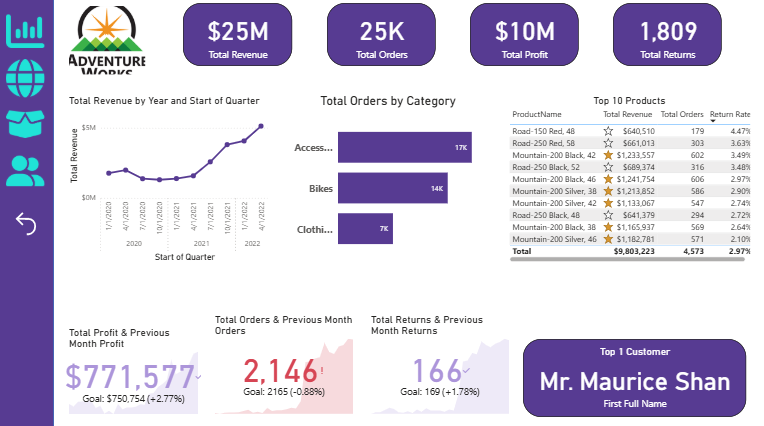

Layout of this report page (visuals, bound fields, positions):
{"tool":"powerbi","page":{"name":"Page 1","canvas":[1280,720],"ordinal":0},"visuals":[{"type":"shape","box":[0,0,93.3,720],"z":0},{"type":"image","box":[9.1,16.2,73.8,73.8],"z":0,"group":"g1"},{"type":"image","box":[113.8,7.2,136.8,123.8],"z":1000},{"type":"image","box":[9.1,93.7,73.8,73.8],"z":1000,"group":"g1"},{"type":"card","fields":{"Values":["Measure Table.Total Revenue"]},"box":[308.3,7.2,181.5,105],"z":2000},{"type":"image","box":[9.1,171.2,73.8,73.8],"z":2000,"group":"g1"},{"type":"card","fields":{"Values":["Measure Table.Total Orders"]},"box":[547.5,7.2,181,105],"z":3000},{"type":"image","box":[9.1,248.7,73.8,73.8],"z":3000,"group":"g1"},{"type":"card","fields":{"Values":["Measure Table.Total Profit"]},"box":[786.3,7.2,181,105],"z":4000},{"type":"card","fields":{"Values":["Measure Table.Total Returns"]},"box":[1025,7.2,181,105],"z":5000},{"type":"clusteredBarChart","title":"Total Orders by Category","fields":{"Category":["Product Categories Lookup.CategoryName"],"Y":["Measure Table.Total Orders"]},"box":[477.4,158.4,347,285.1],"z":6000},{"type":"lineChart","fields":{"Category":["Calendar Lookup.Year","Calendar Lookup.Start of Quarter","Calendar Lookup.Month","Calendar Lookup.Date"],"Y":["Measure Table.Total Revenue"]},"box":[113.8,158.4,341.3,285.1],"z":7000},{"type":"kpi","title":"Total Profit & Previous Month Profit","fields":{"Goal":["Measure Table.Previous Month Profit"],"Indicator":["Measure Table.Total Profit"],"TrendLine":["Calendar Lookup.Start of Month"]},"box":[113.3,545,225,151.7],"z":8000},{"type":"kpi","title":"Total Orders & Previous Month Orders","fields":{"Goal":["Measure Table.Previous Month Orders"],"Indicator":["Measure Table.Total Orders"],"TrendLine":["Calendar Lookup.Start of Month"]},"box":[357.2,523.3,240,173.3],"z":9000},{"type":"kpi","title":"Total Returns & Previous Month Returns","fields":{"Goal":["Measure Table.Previous Month Returns"],"Indicator":["Measure Table.Total Returns"],"TrendLine":["Calendar Lookup.Start of Month"]},"box":[616.1,523.3,240,173.3],"z":10000},{"type":"tableEx","title":"Top 10 Products","fields":{"Values":["Product Lookup.ProductName","Measure Table.Total Revenue","Measure Table.Total Orders","Measure Table.Return Rate"]},"box":[846.7,158.4,411.8,285.1],"z":11000},{"type":"card","title":"Top 1 Customer","fields":{"Values":["Min(Customer Lookup.Full Name)"]},"box":[875,566.7,371.7,130],"z":12000},{"type":"group","id":"g1","title":"Group 1","box":[9.1,16.2,73.8,306.2],"z":13000},{"type":"actionButton","box":[21.1,348.9,50,51.1],"z":14000}]}

Visuals, with their boxes on the page's 1280x720 design canvas (x1, y1, x2, y2). These are canvas units, not pixel positions in the 764x426 screenshot, which may show the page scaled, cropped or inside an application window:
shape: 0 0 93 720
image: 9 16 83 90
image: 114 7 251 131
image: 9 94 83 168
card - Measure Table.Total Revenue: 308 7 490 112
image: 9 171 83 245
card - Measure Table.Total Orders: 548 7 728 112
image: 9 249 83 322
card - Measure Table.Total Profit: 786 7 967 112
card - Measure Table.Total Returns: 1025 7 1206 112
"Total Orders by Category" clusteredBarChart: 477 158 824 444
lineChart - Calendar Lookup.Year x Calendar Lookup.Start of Quarter: 114 158 455 444
"Total Profit & Previous Month Profit" kpi: 113 545 338 697
"Total Orders & Previous Month Orders" kpi: 357 523 597 697
"Total Returns & Previous Month Returns" kpi: 616 523 856 697
"Top 10 Products" tableEx: 847 158 1258 444
"Top 1 Customer" card: 875 567 1247 697
"Group 1" group: 9 16 83 322
actionButton: 21 349 71 400
